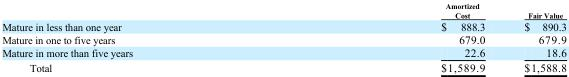table: (1, 1, 566, 73)
table column: (1, 1, 286, 73), (286, 1, 504, 73), (504, 1, 566, 73)
table column header: (1, 1, 566, 19)
table row: (1, 1, 566, 19), (1, 45, 566, 59), (1, 59, 566, 73), (1, 19, 566, 32), (1, 32, 566, 45)
